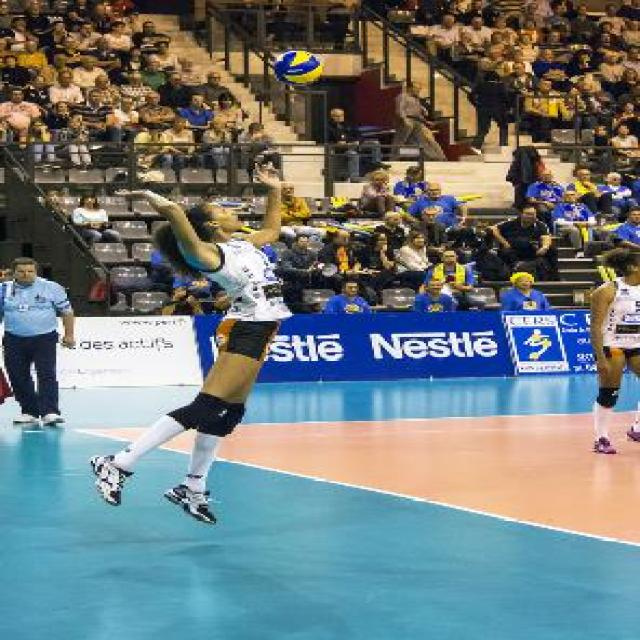Volleyball: (273, 50, 325, 82)
